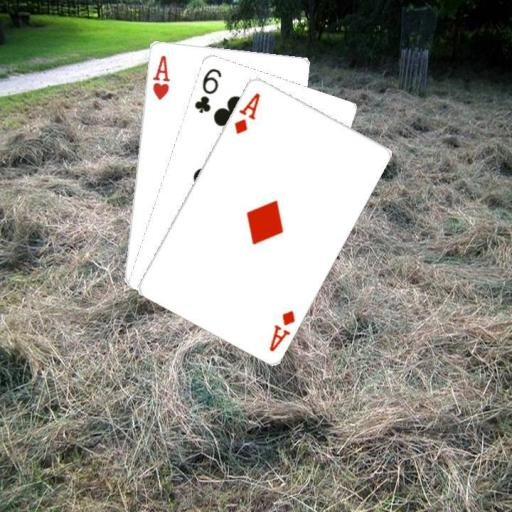6C: (191, 65, 223, 115)
AD: (230, 89, 262, 135), (266, 307, 296, 353)
AH: (149, 52, 172, 101)
